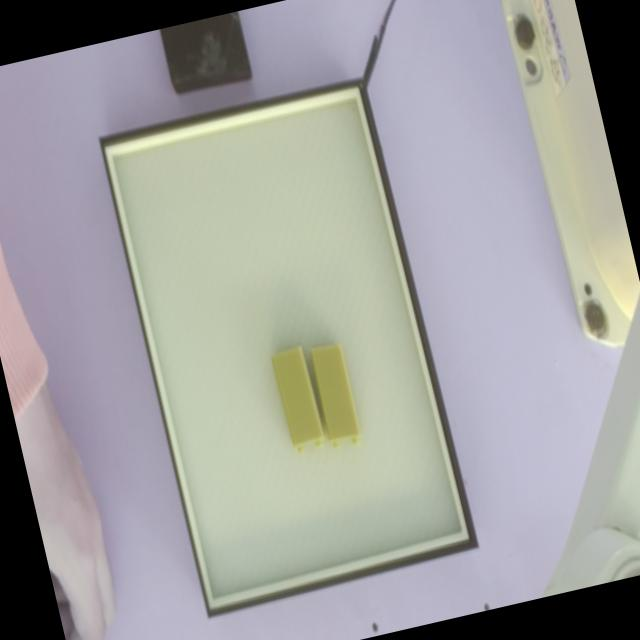bateria: (272, 348, 325, 453), (309, 343, 361, 448)
mesa: (98, 76, 480, 617)
